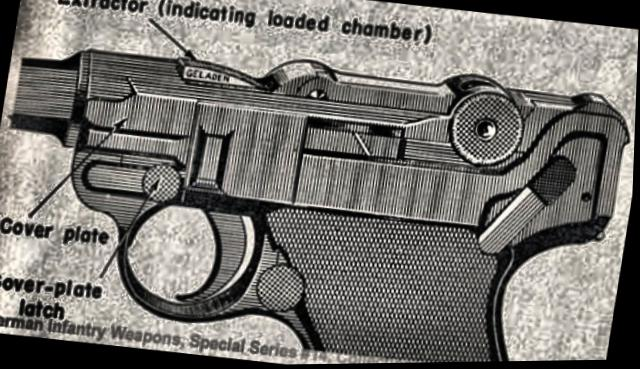pistol: (0, 17, 639, 369)
